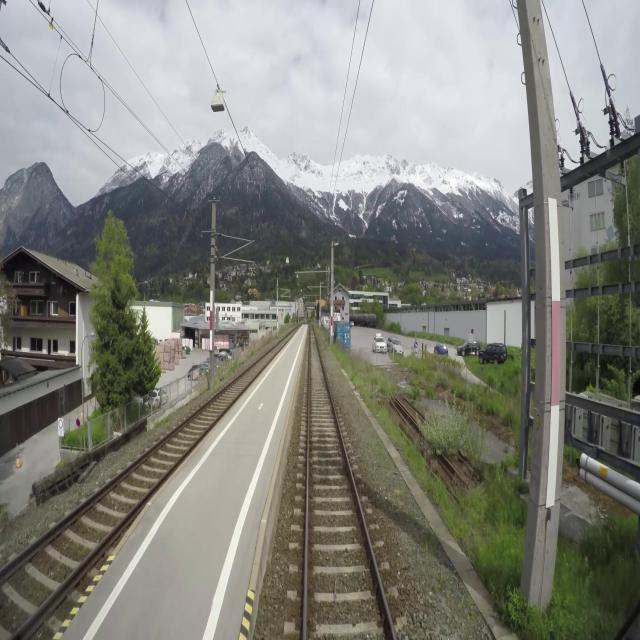rail-track: (0, 343, 282, 637), (307, 327, 393, 639)
